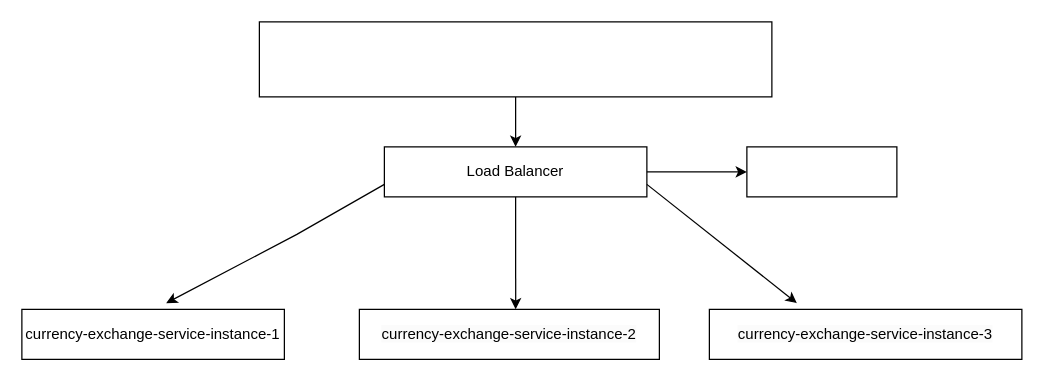
Some shapes in this 1044 by 383 pixel diagram are drawn without their labels. Here are the shapes that lost their labels. From the top down, the box of each, then its label:
(258, 21, 772, 97): currency-conversion-service
(746, 146, 897, 197): Naming Server
